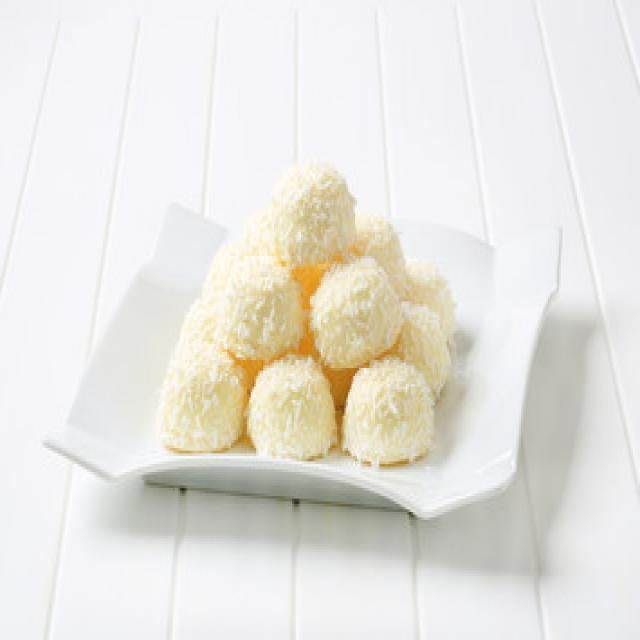Chocolate: (162, 170, 462, 468), (196, 232, 315, 362), (153, 342, 248, 458), (242, 353, 341, 460), (342, 356, 435, 464), (267, 170, 360, 274), (315, 259, 406, 364)
